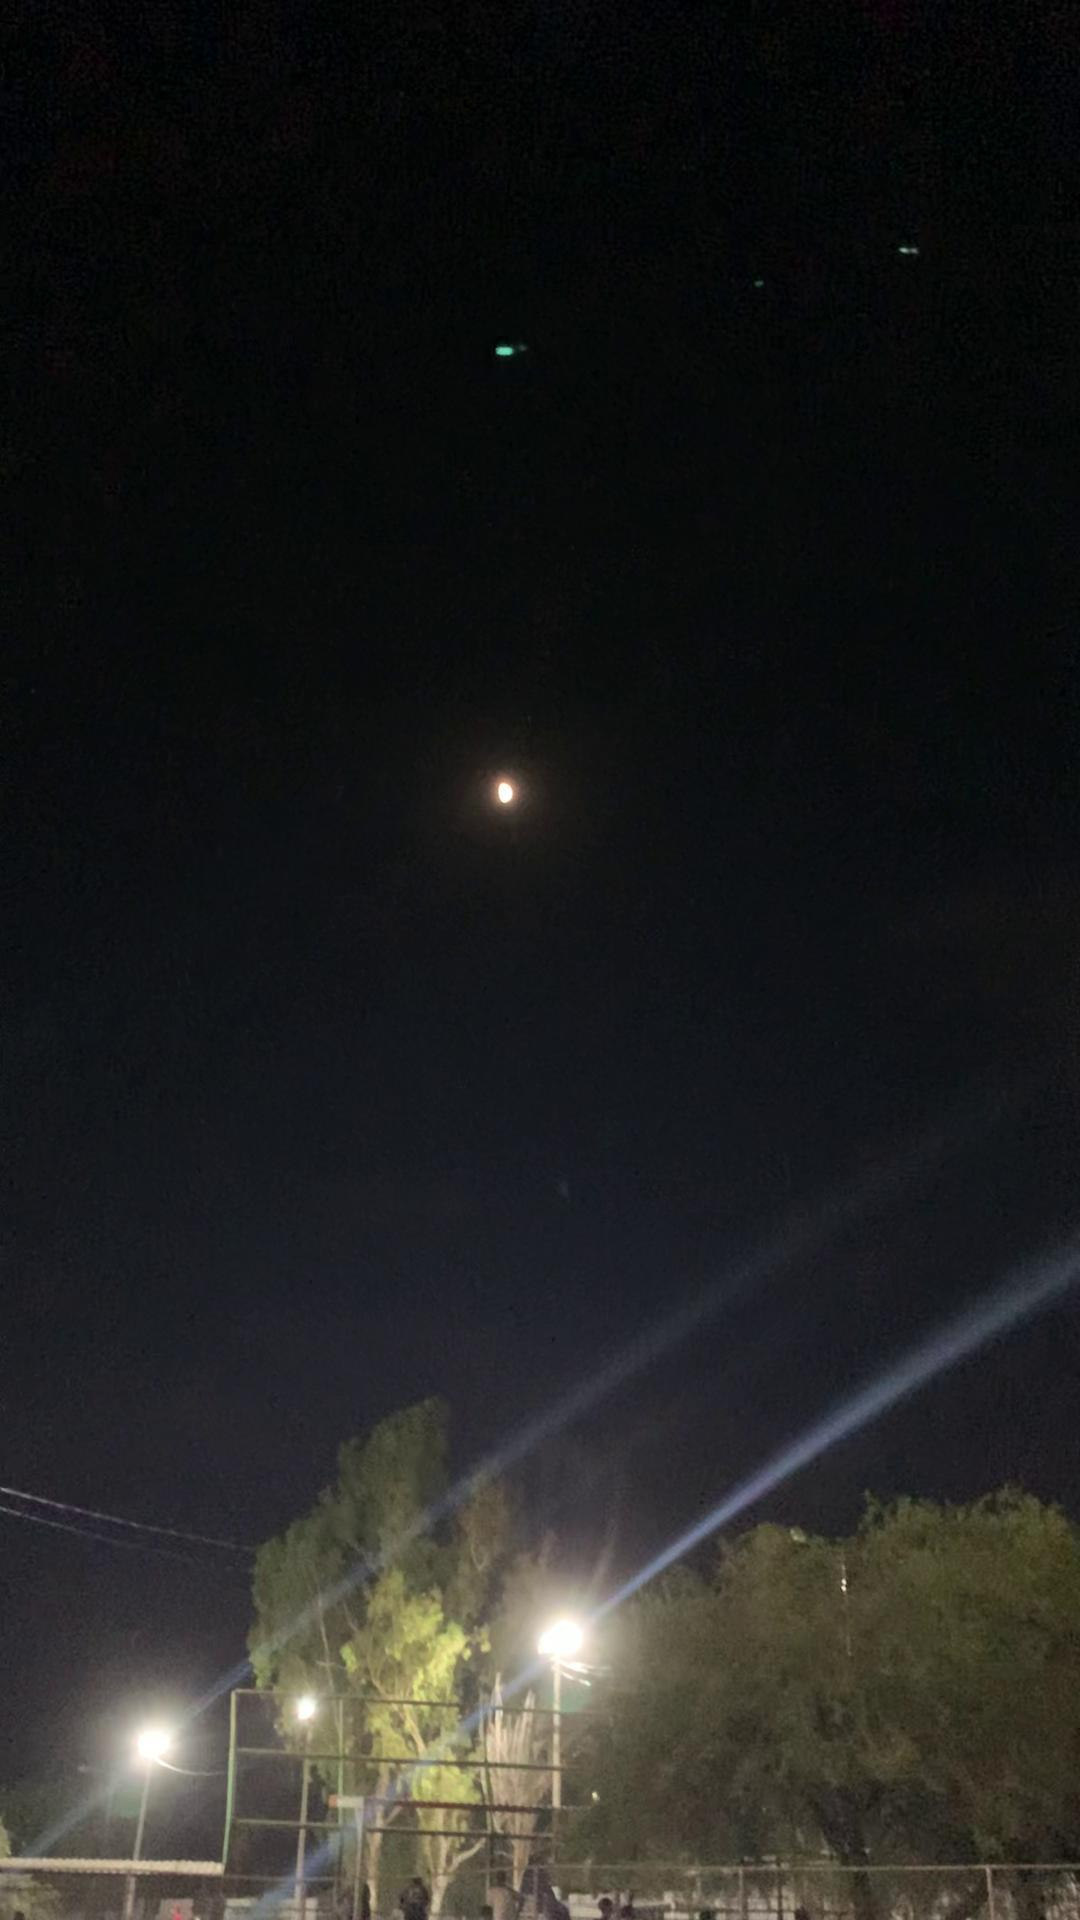moon: (467, 748, 546, 836)
